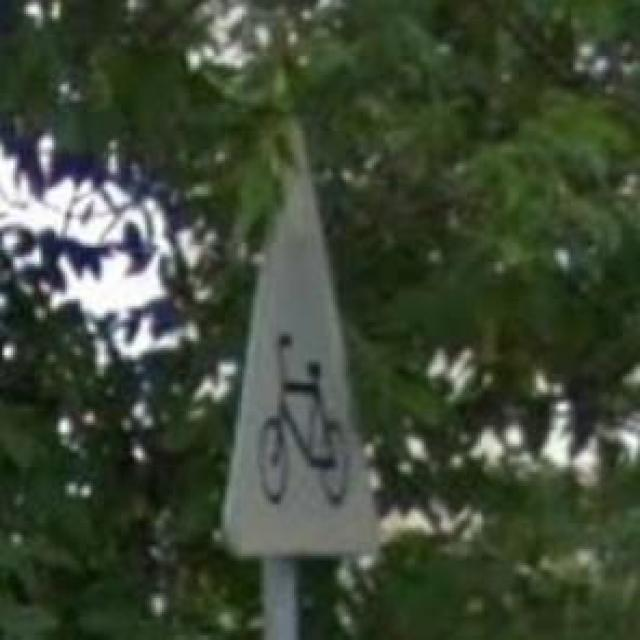bicycle: (216, 110, 381, 563)
